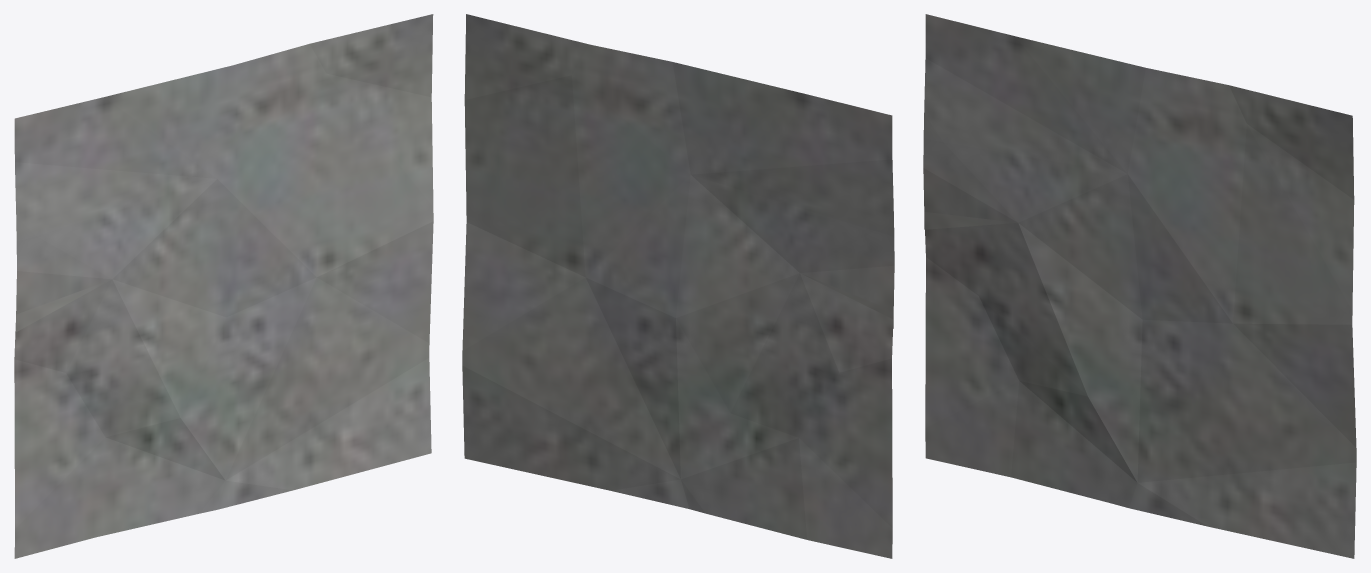
File: Tile_+003_+006_L24_0013022.obj
3 views of the same model, side by side, from view 1: azimuth 30°, elevation 25°; view 2: azimuth 150°, elevation 25°; view 3: azimuth 330°, elevation 25° (orthographic).
Size of the model in its own units: 0.9531 by 0.9531 by 0.0359.
Materials: 1 (1 with a texture image).
